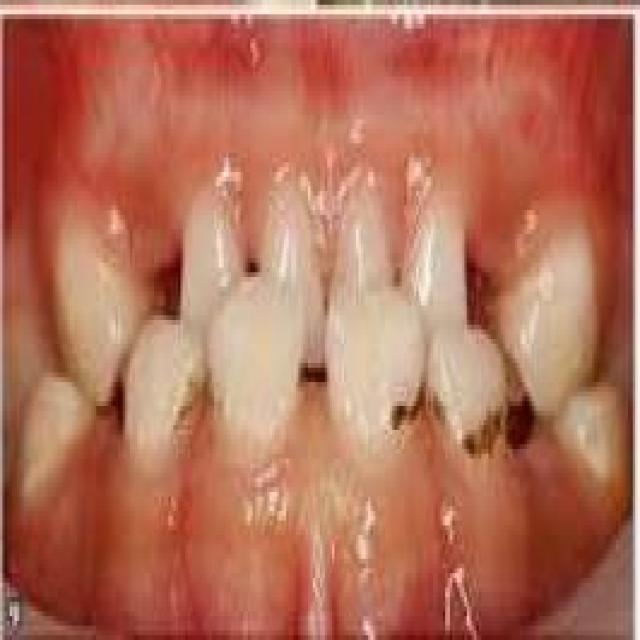caries: (383, 362, 452, 454), (501, 367, 552, 476), (452, 388, 511, 477)
